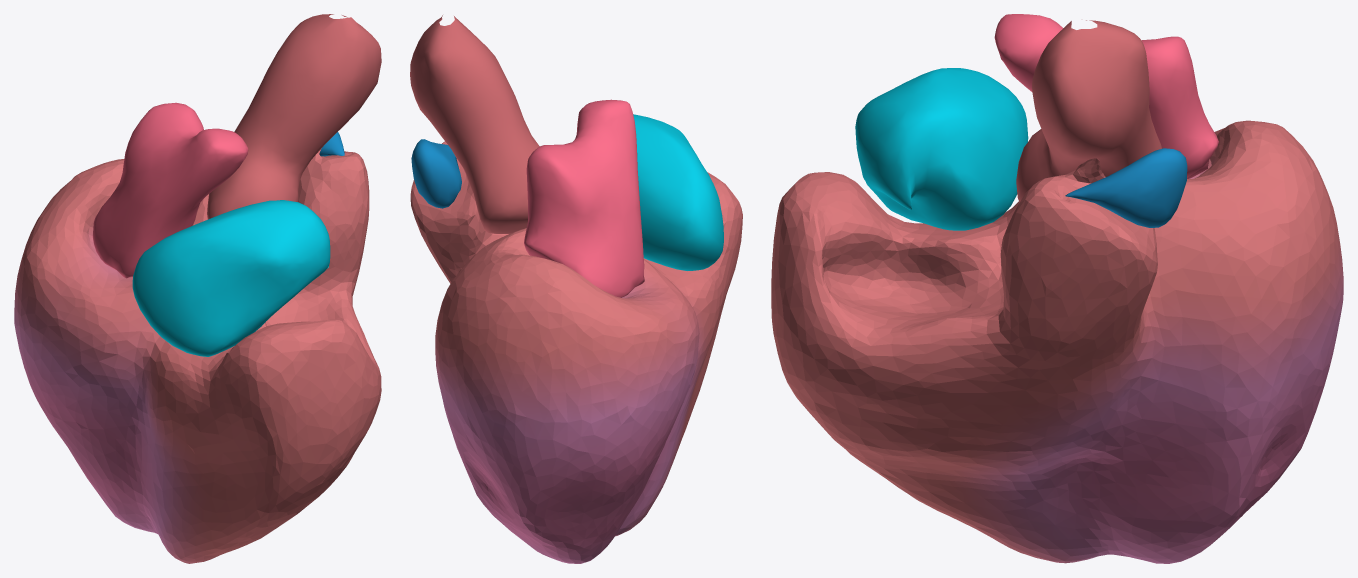
The model's file is frame_64.glb.
3 views of the same model, side by side, from view 1: azimuth 30°, elevation 25°; view 2: azimuth 150°, elevation 25°; view 3: azimuth 270°, elevation 25° (orthographic). The views are drawn at different scales.
Visible parts, largest first — view 1: Renderer Node; view 2: Renderer Node; view 3: Renderer Node.
Part boxes in pixels (box(x1,y1,x2,y2)): Renderer Node: box(14, 14, 381, 563); Renderer Node: box(410, 15, 742, 563); Renderer Node: box(771, 14, 1343, 563).
Bounding box in the file's own units: 102 × 158 × 128.
